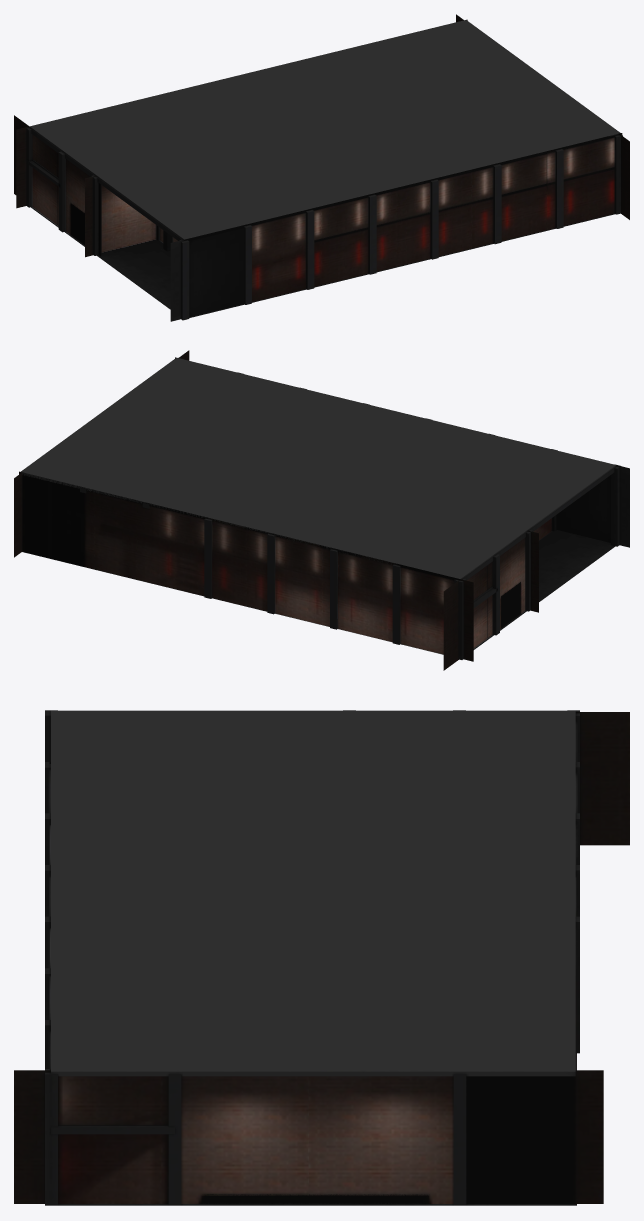
3 renders of one model, top to bottom at view 1: azimuth 30°, elevation 25°; view 2: azimuth 150°, elevation 25°; view 3: azimuth 270°, elevation 25°, orthographic. The views are drawn at different scales.
Visible parts, largest first — view 1: bakefaked; view 2: bakefaked; view 3: bakefaked.
Boxes of the visible parts, x1=… form: bakefaked: x1=14, y1=14, x2=629, y2=321; bakefaked: x1=14, y1=350, x2=629, y2=670; bakefaked: x1=14, y1=710, x2=629, y2=1205.
Bounding box in the file's own units: 85.47 × 14.35 × 59.55.
1 material, 1 textured.
